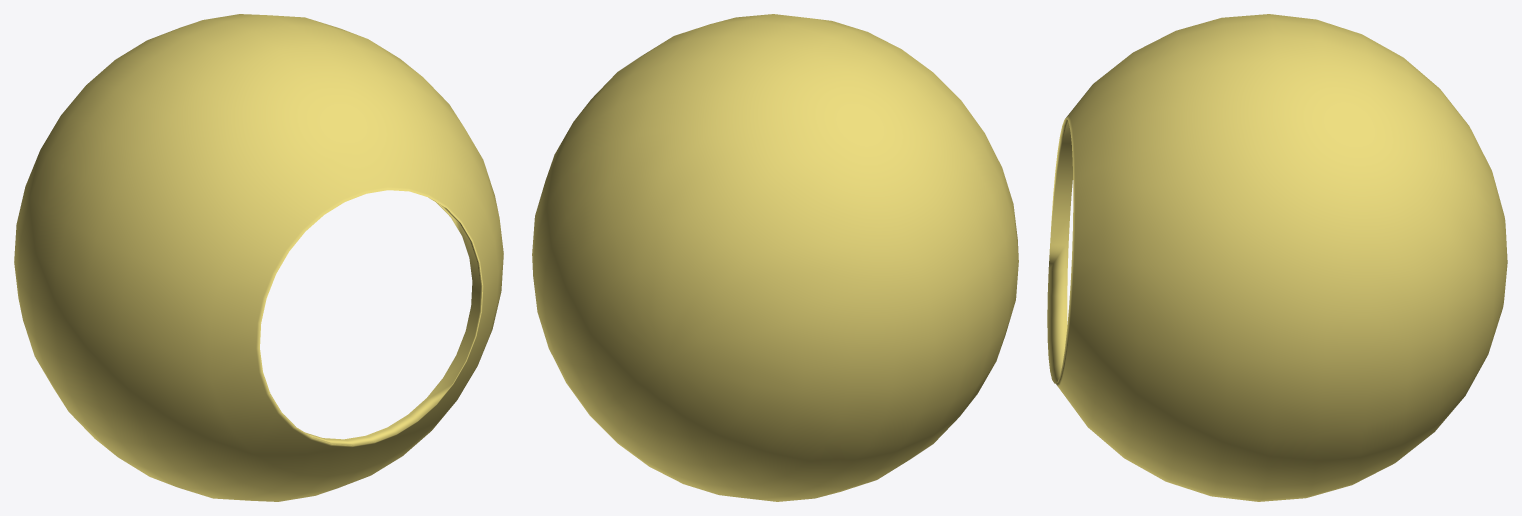
File: sclera-l.glb
The picture shows the model from 3 angles, left to right: view 1: azimuth 30°, elevation 25°; view 2: azimuth 150°, elevation 25°; view 3: azimuth 270°, elevation 25°; orthographic projection.
Parts seen in each view (by area): view 1: Sclera.l; view 2: Sclera.l; view 3: Sclera.l.
Boxes of the visible parts, x1=… form: Sclera.l: x1=14, y1=14, x2=503, y2=501; Sclera.l: x1=532, y1=14, x2=1018, y2=501; Sclera.l: x1=1047, y1=14, x2=1507, y2=501.
Bounding box in the file's own units: 0.0266 × 0.0266 × 0.0251.
